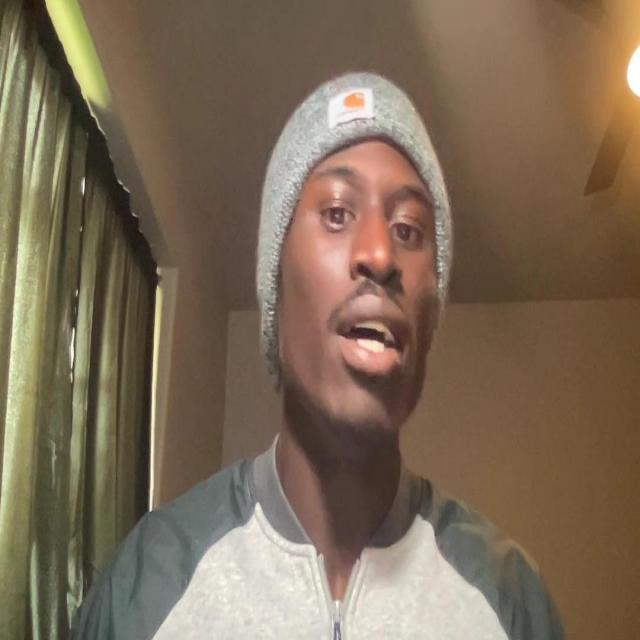face: (254, 70, 455, 441)
